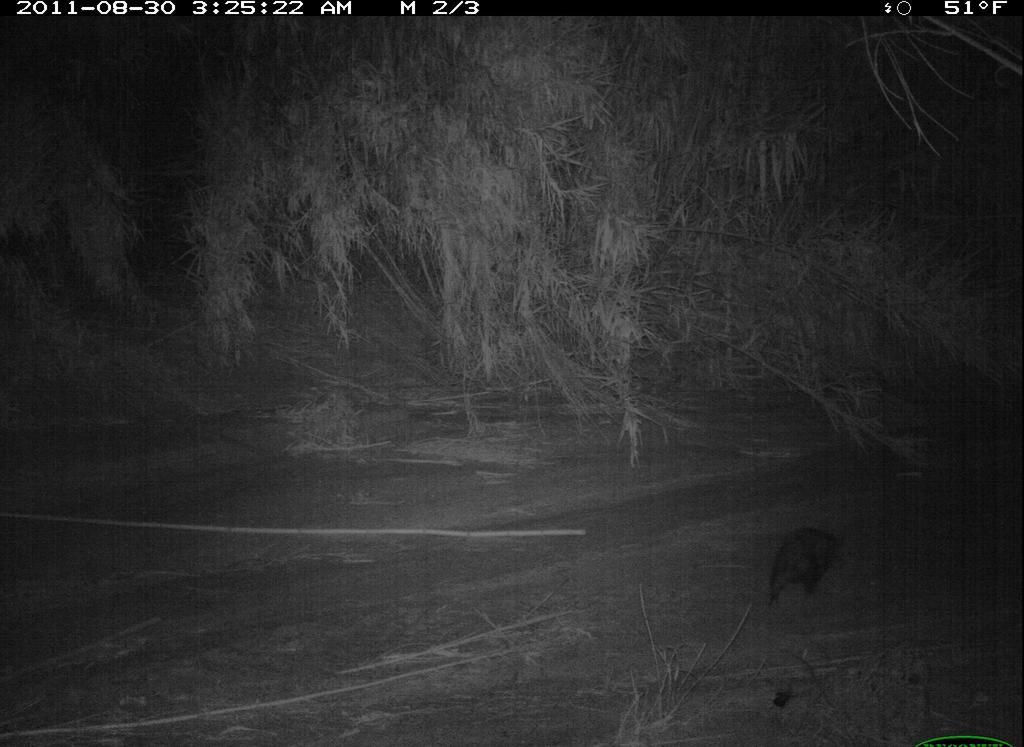opossum: (758, 504, 850, 619)
